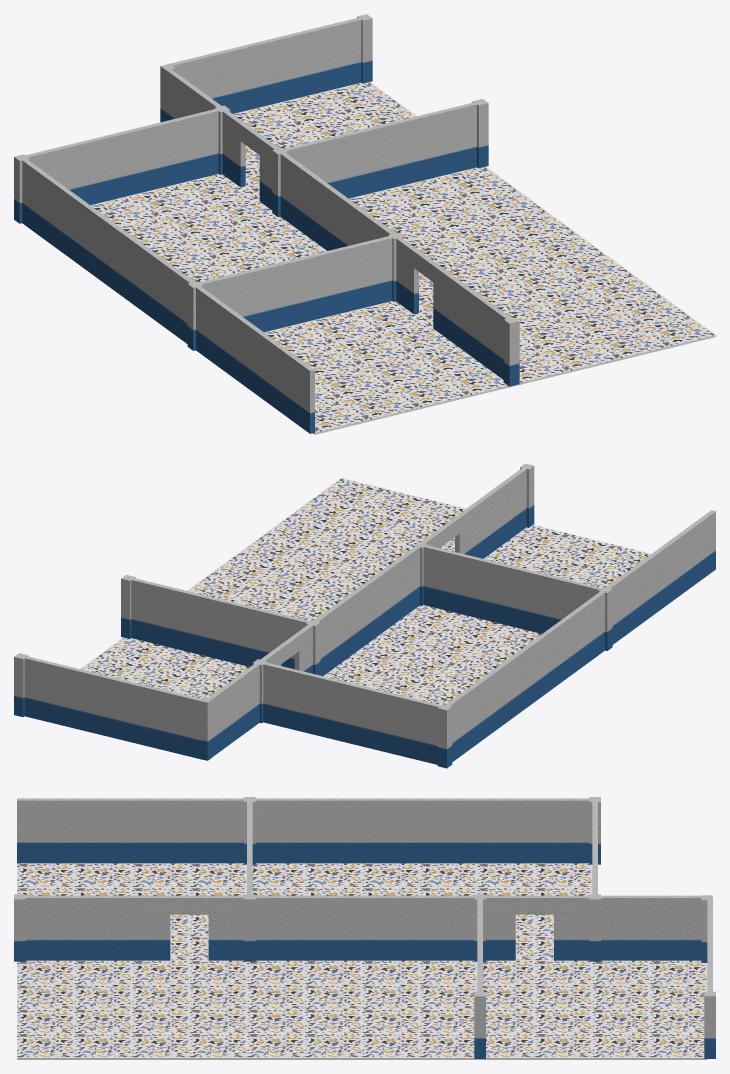
The picture shows the model from 3 angles, top to bottom: view 1: azimuth 30°, elevation 25°; view 2: azimuth 150°, elevation 25°; view 3: azimuth 270°, elevation 25°; orthographic projection. The views are drawn at different scales.
Visible parts, largest first — view 1: 106; view 2: 106; view 3: 106.
Part boxes in pixels (x1,y1,x2,y2): 106: [14, 14, 715, 434]; 106: [14, 463, 715, 768]; 106: [14, 797, 715, 1059].
Bounding box in the file's own units: 4100 × 620 × 6100.
Materials: 2 (2 with a texture image).
